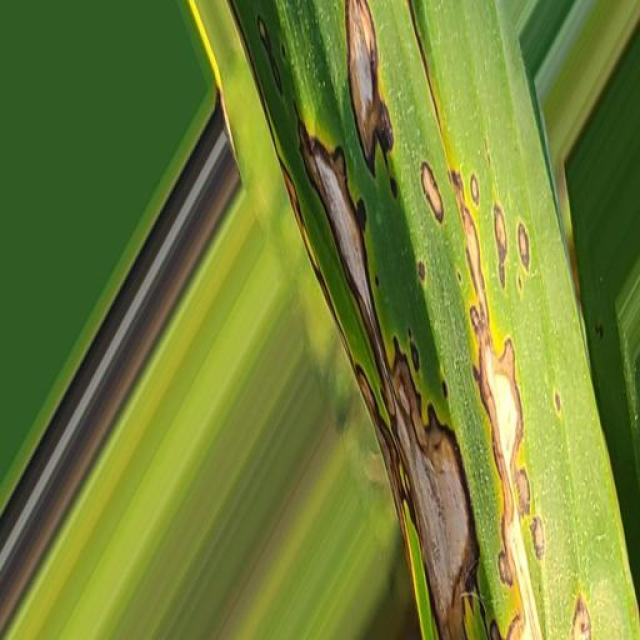Early_rust: (223, 9, 613, 640)
